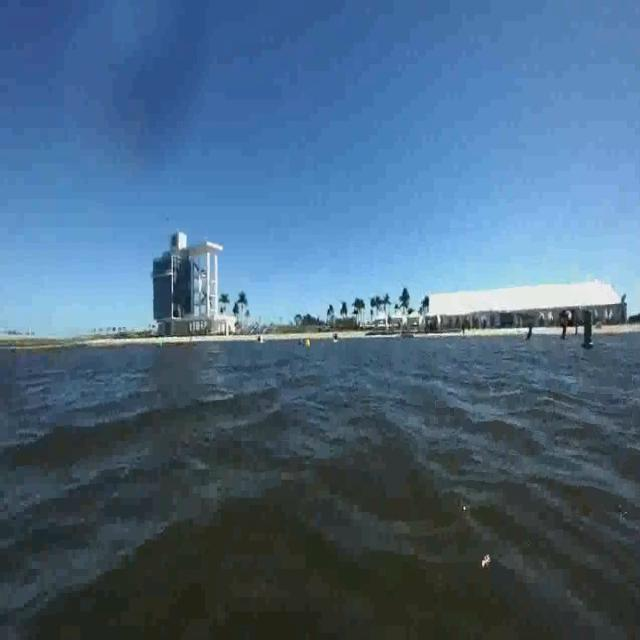green-column-buoy: (580, 311, 594, 351)
yellow-buoy: (306, 338, 312, 351)
